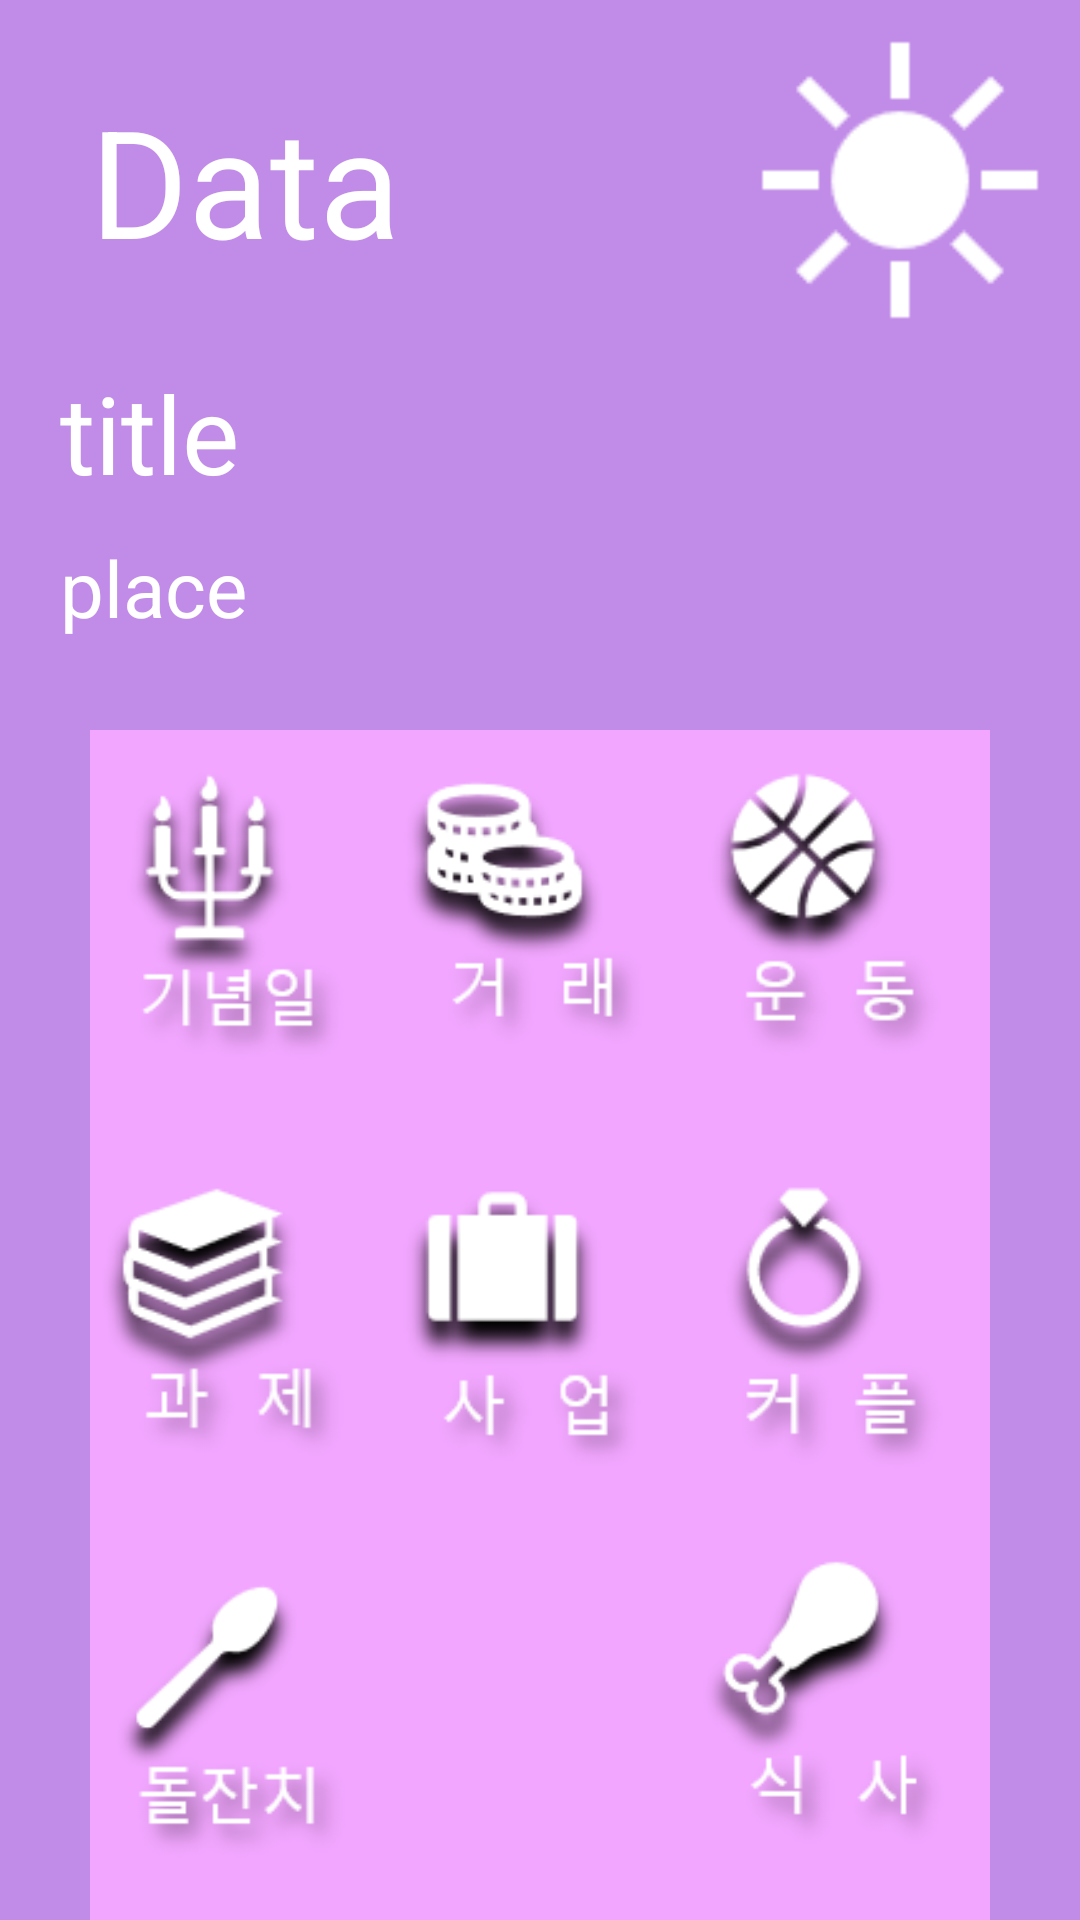

Locate icon controls on the screen. Image size 1080px x 1920px, boxes as (x1, y1, x2, y2).
sunny: (762, 42, 1038, 318)
